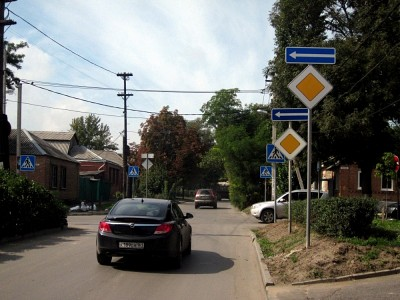crosswalk: (19, 155, 36, 172), (261, 166, 273, 178), (128, 166, 139, 176)
priority_road: (293, 70, 329, 105), (276, 131, 303, 157)
